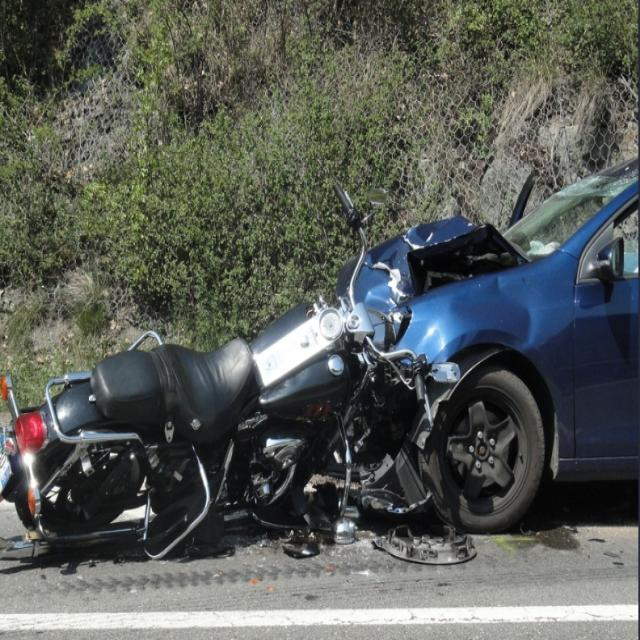accident: (1, 150, 640, 574)
